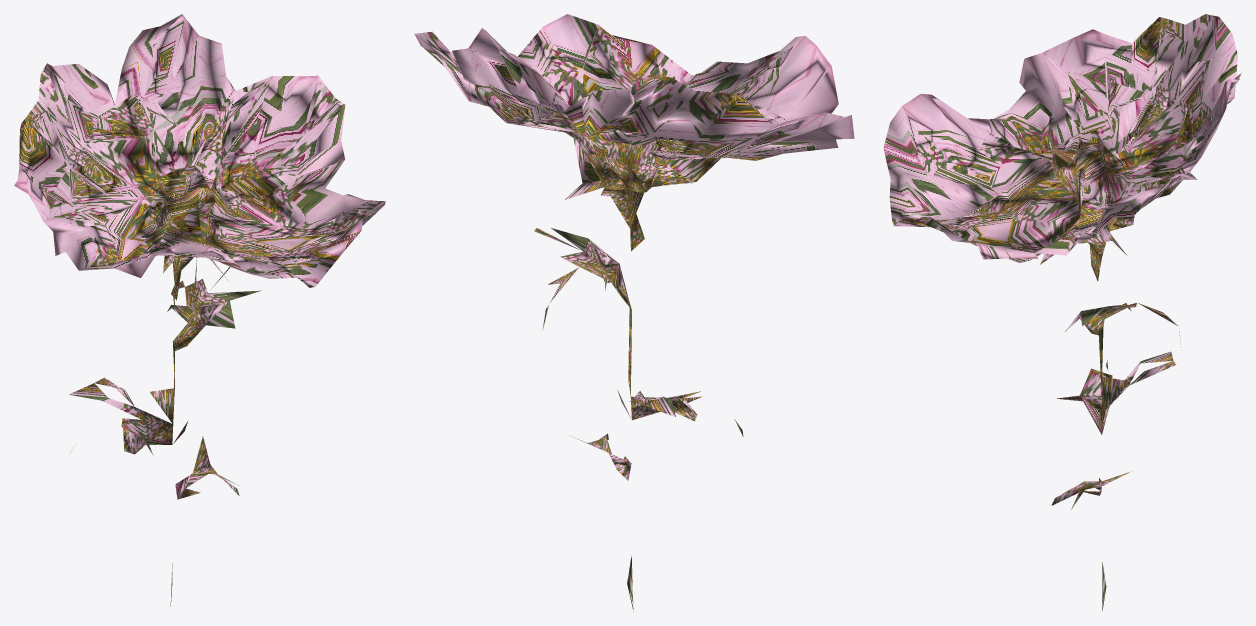
The model's file is giant-flower.glb.
3 views of the same model, side by side, from view 1: azimuth 30°, elevation 25°; view 2: azimuth 150°, elevation 25°; view 3: azimuth 270°, elevation 25° (orthographic). The views are drawn at different scales.
Bounding box in the file's own units: 1.25 × 1.9 × 1.08.
Materials: 1 (1 with a texture image).
